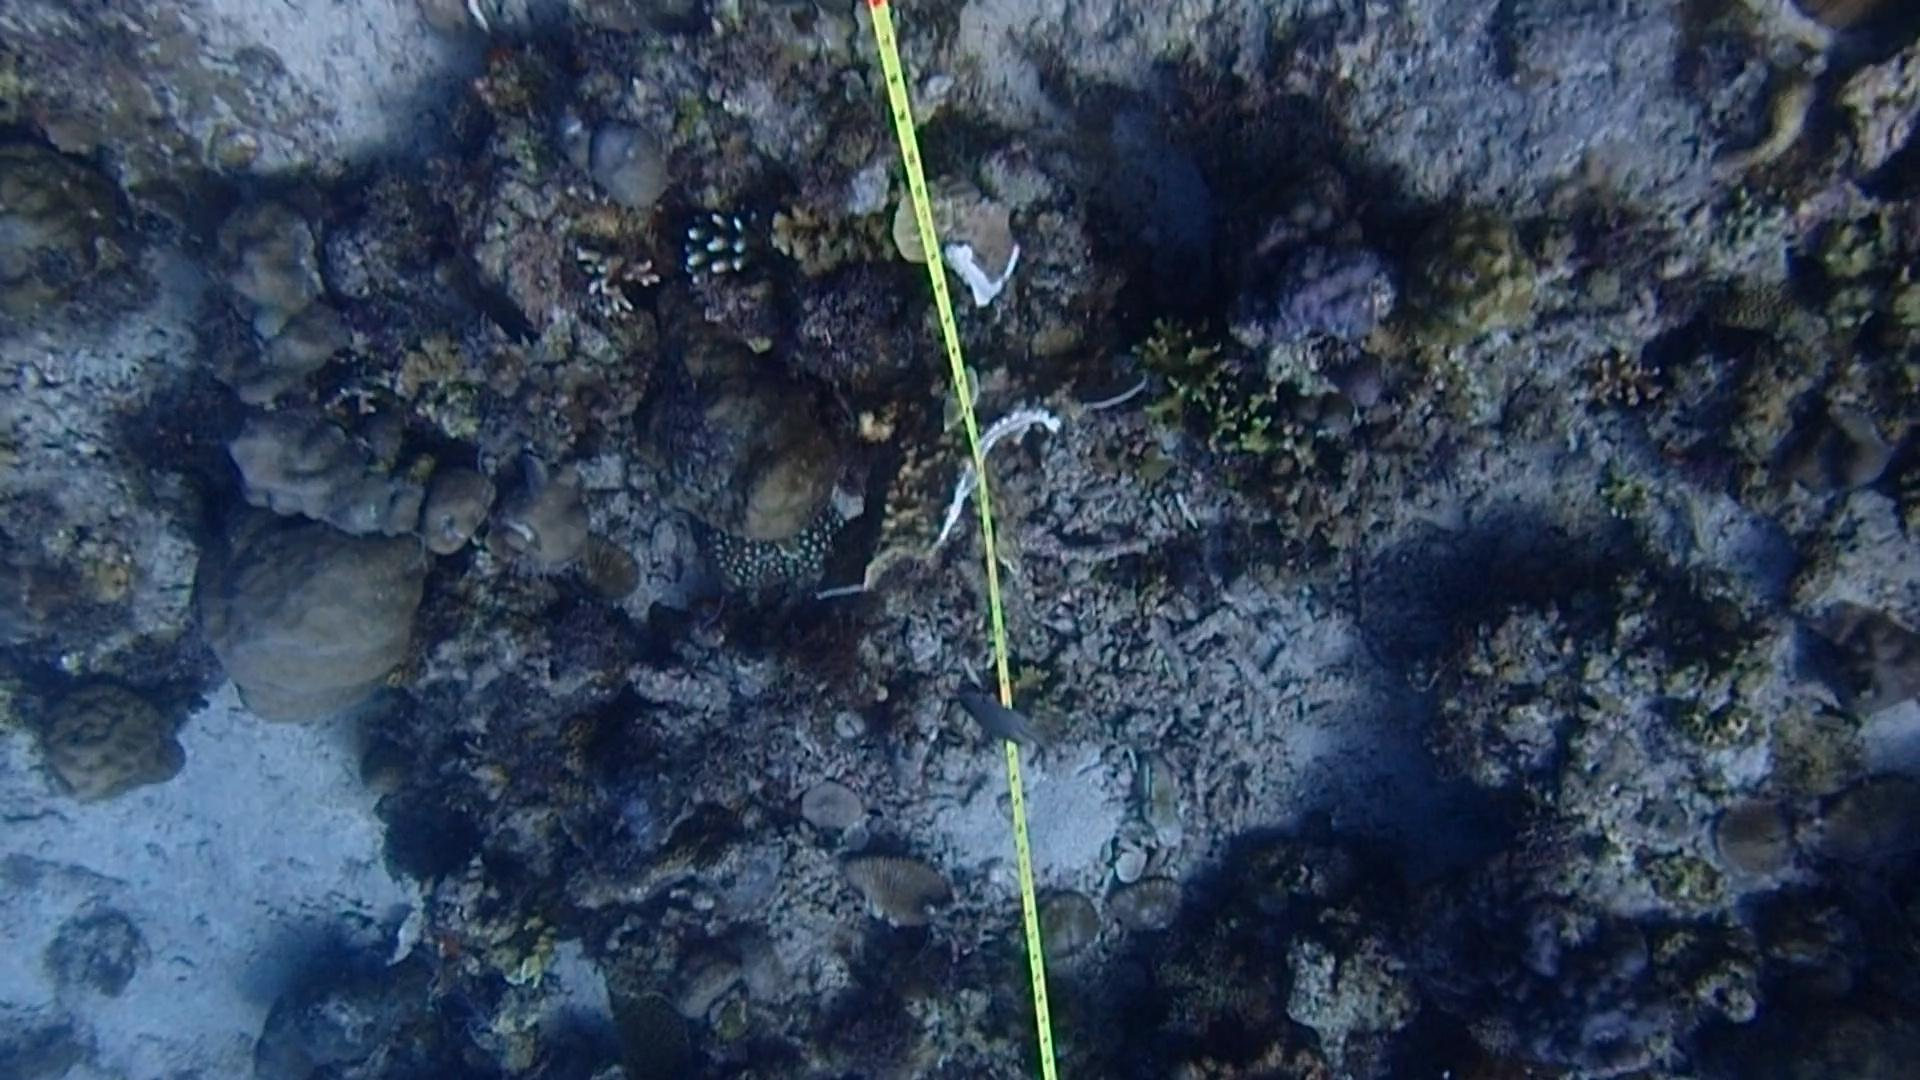Light Fish: (948, 673, 1059, 757)
